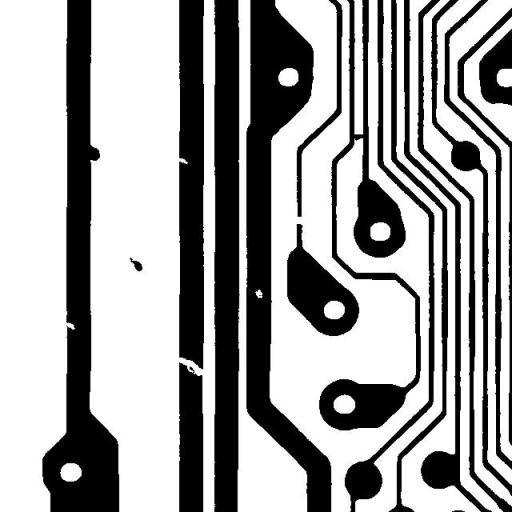copper: (122, 250, 150, 278)
mousebite: (56, 314, 82, 337), (169, 150, 195, 172)
open: (170, 350, 211, 383), (287, 209, 313, 232)
pin-hole: (247, 282, 270, 306)
short: (343, 126, 371, 148)
spur: (78, 137, 108, 168)
